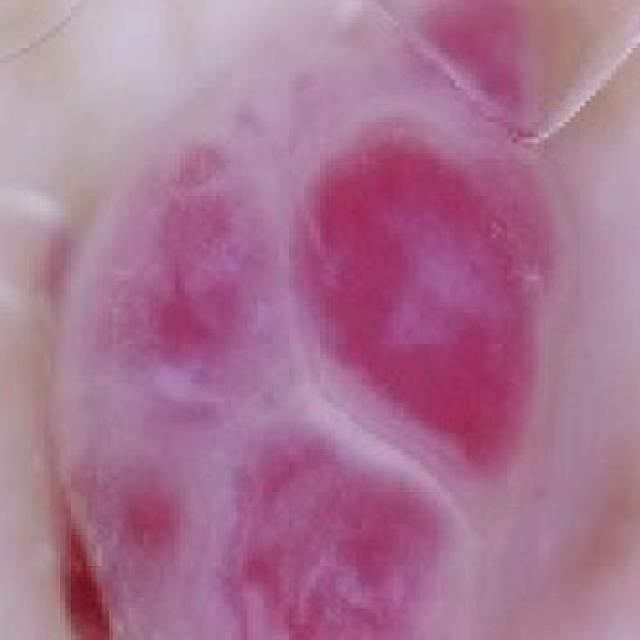VASC: (25, 0, 628, 640)
